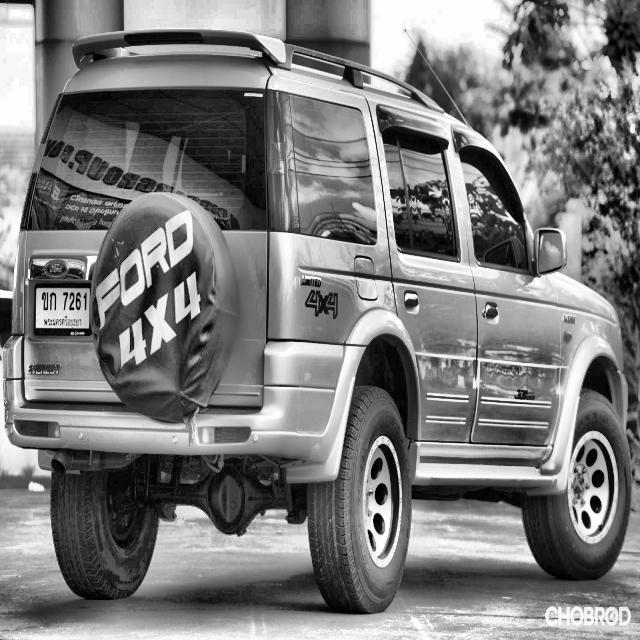license-plate: (33, 282, 92, 337)
